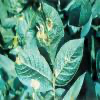Potato leaf early blight: (34, 2, 65, 63), (15, 50, 54, 91), (54, 35, 84, 87), (62, 72, 88, 99)
